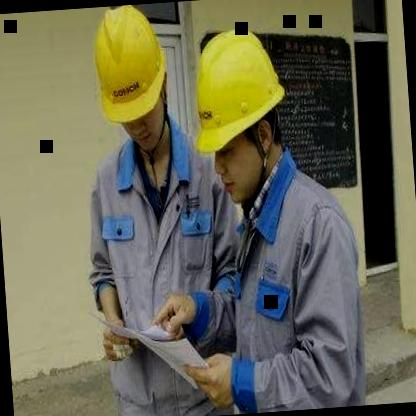helmet: (180, 13, 303, 214), (80, 2, 182, 165)
